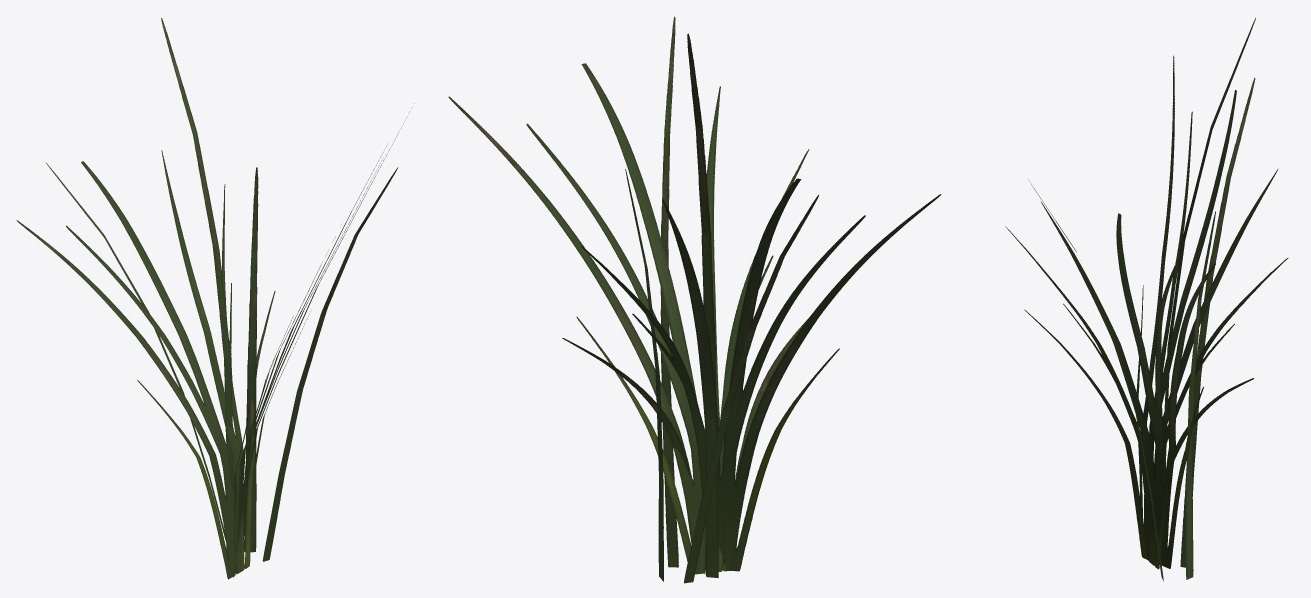
Rendered from SM_TallGrass_Clump4.fbx.
3 renders of one model, left to right at view 1: azimuth 30°, elevation 25°; view 2: azimuth 150°, elevation 25°; view 3: azimuth 270°, elevation 25°, orthographic. The views are drawn at different scales.
Visible parts, largest first — view 1: SM_TallGrass_Clump4; view 2: SM_TallGrass_Clump4; view 3: SM_TallGrass_Clump4.
Part boxes in pixels (x1,y1,x2,y2): SM_TallGrass_Clump4: (16, 18, 414, 579); SM_TallGrass_Clump4: (448, 16, 941, 583); SM_TallGrass_Clump4: (1005, 18, 1288, 581).
Size of the model in its own units: 140 by 90.63 by 166.
